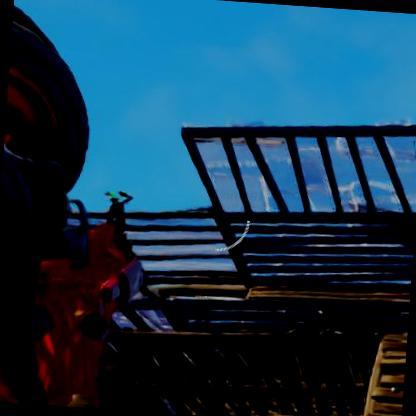person: (107, 195, 144, 225)
